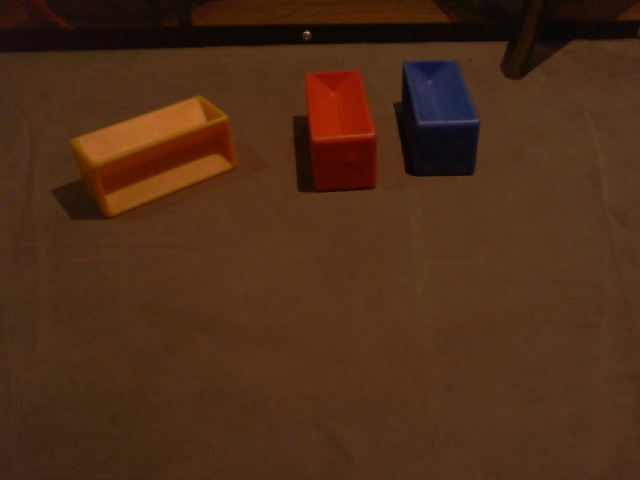BlueSample: (400, 58, 480, 177)
RedSample: (302, 68, 380, 193)
YellowSample: (70, 94, 237, 220)
